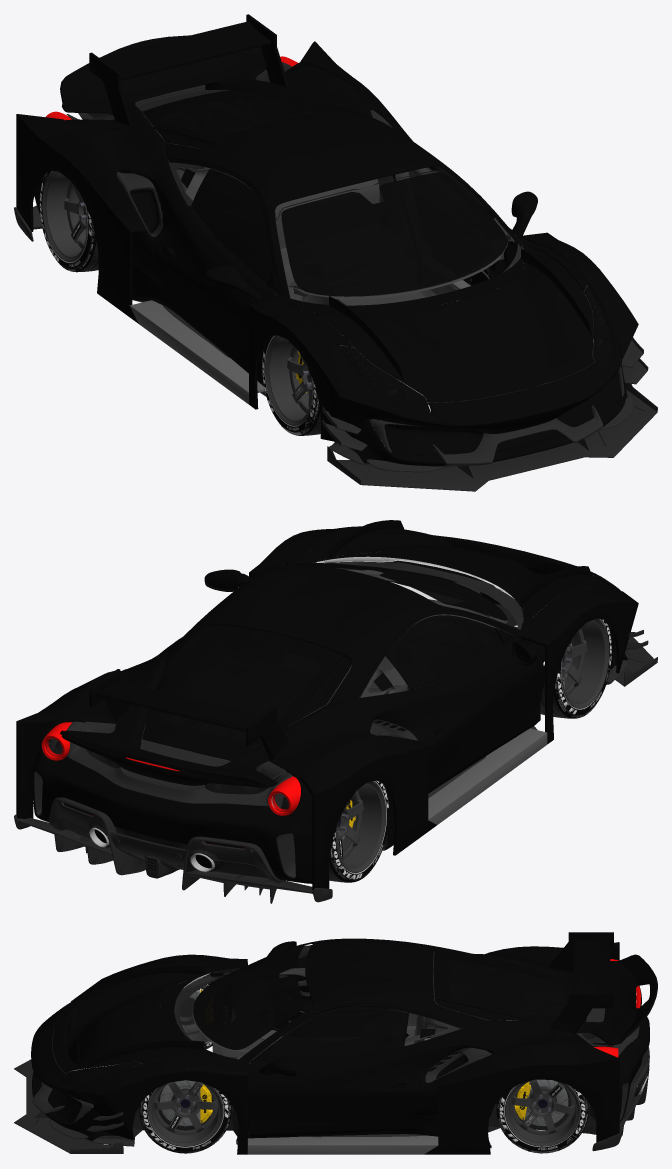
Rendered from ferrari-488-pista-widebody.glb.
The picture shows the model from 3 angles, top to bottom: view 1: azimuth 30°, elevation 25°; view 2: azimuth 150°, elevation 25°; view 3: azimuth 270°, elevation 25°; orthographic projection. The views are drawn at different scales.
Visible parts, largest first — view 1: Object_10, Plane_29, Object_40, Plane.001_30, Object_54, Object_8, Object_30, Object_58, Object_216_w1, Object_272_w0, Object_50, Object_281_w0 (+4 smaller); view 2: Object_10, Plane_29, Object_40, Object_54, Object_8, Object_272_w0, Object_216_w1, Plane.001_30, Object_48, Object_32, Object_50, Object_58 (+7 smaller); view 3: Object_10, Plane_29, Object_40, Object_54, Plane.001_30, Object_8, Object_160_w3, Object_104_w2, Object_58, Object_169_w3, Object_113_w2, Object_48 (+8 smaller).
Part boxes in pixels (x1,y1,x2,y2): Object_10: (34, 53, 627, 466); Plane_29: (16, 14, 638, 451); Object_40: (158, 93, 614, 413); Plane.001_30: (322, 249, 657, 491); Object_54: (14, 62, 634, 472); Object_8: (142, 90, 523, 311); Object_30: (118, 110, 621, 455); Object_58: (176, 167, 507, 348); Object_216_w1: (265, 335, 313, 425); Object_272_w0: (42, 171, 87, 261); Object_50: (78, 109, 593, 395); Object_281_w0: (39, 170, 96, 272); Object_10: (32, 527, 627, 883); Plane_29: (16, 528, 638, 890); Object_40: (63, 526, 612, 870); Object_54: (14, 561, 634, 903); Object_8: (142, 551, 529, 760); Object_272_w0: (336, 781, 386, 872); Object_216_w1: (561, 618, 609, 708); Plane.001_30: (329, 520, 657, 686); Object_48: (50, 562, 537, 882); Object_32: (157, 625, 350, 728); Object_50: (122, 579, 593, 896); Object_58: (340, 568, 507, 697); Object_10: (31, 938, 649, 1148); Plane_29: (71, 932, 657, 1154); Object_40: (61, 945, 564, 1085); Object_54: (31, 951, 649, 1151); Plane.001_30: (14, 965, 204, 1153); Object_8: (160, 943, 586, 1098); Object_160_w3: (505, 1079, 580, 1146); Object_104_w2: (147, 1081, 223, 1146); Object_58: (192, 945, 448, 1063); Object_169_w3: (496, 1085, 588, 1153); Object_113_w2: (139, 1088, 231, 1153); Object_48: (64, 967, 644, 1145).
Bounding box in the file's own units: 2.21 × 1.09 × 4.7.
Materials: 40 (6 with a texture image).
